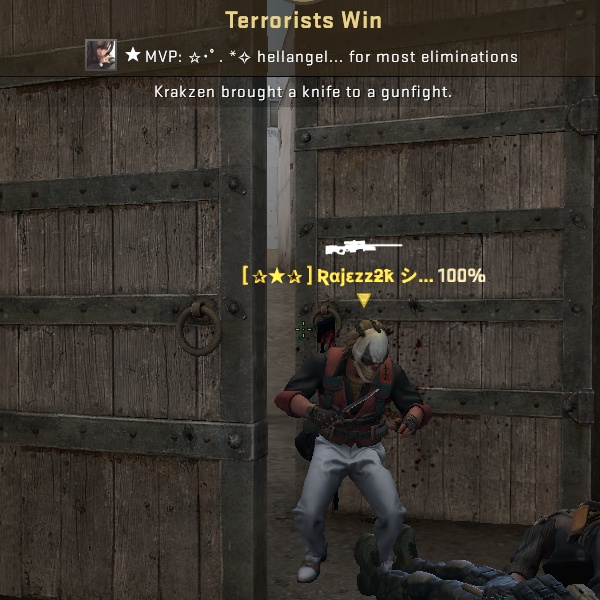t_body: (269, 302, 455, 593)
t_head: (334, 312, 412, 391)
